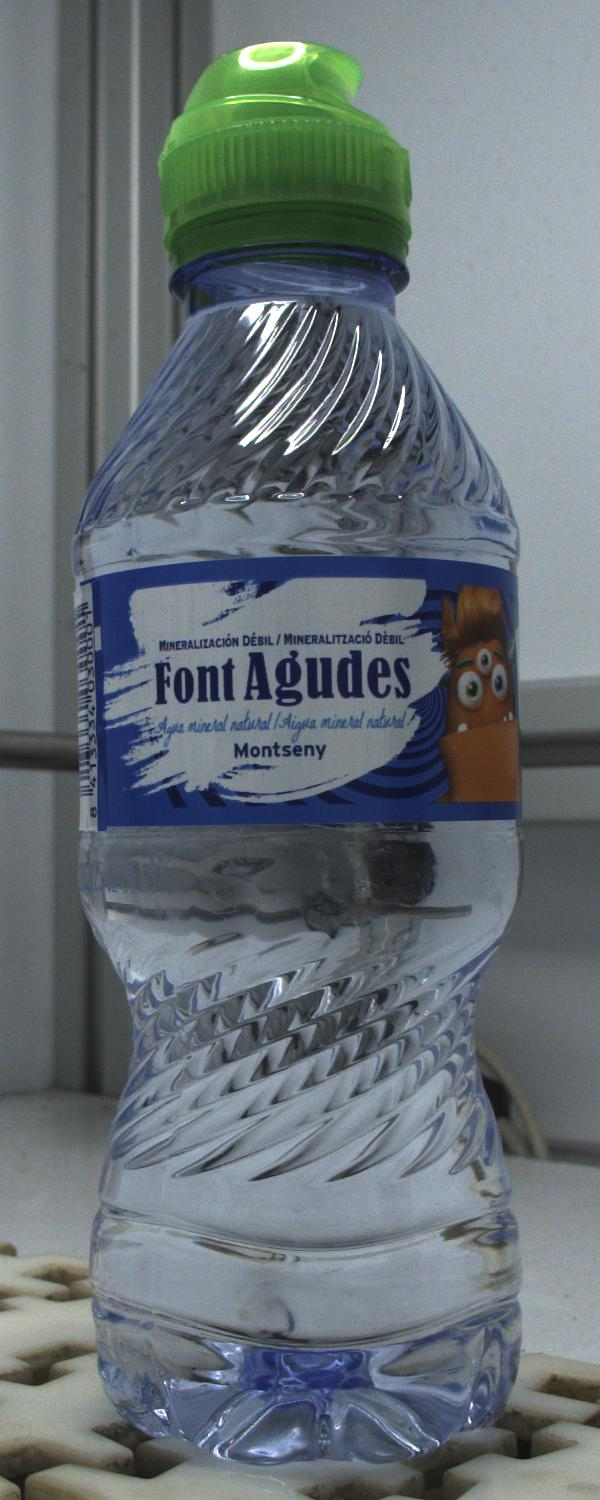bottle: (74, 41, 519, 1461)
cap: (74, 41, 519, 1461), (158, 41, 411, 267)
